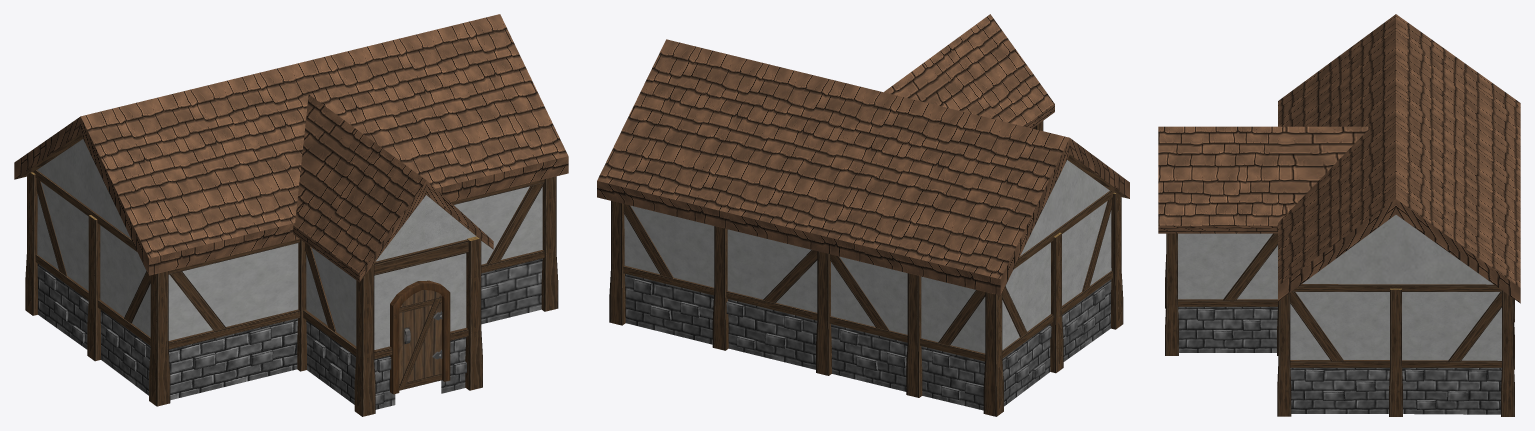
File: Building_b.fbx
3 renders of one model, left to right at view 1: azimuth 30°, elevation 25°; view 2: azimuth 150°, elevation 25°; view 3: azimuth 270°, elevation 25°, orthographic. The views are drawn at different scales.
Parts seen in each view (by area): view 1: Building_b; view 2: Building_b; view 3: Building_b.
Boxes of the visible parts, x1,y1,x2,y2 form: Building_b: [14, 14, 568, 416]; Building_b: [597, 14, 1129, 416]; Building_b: [1158, 14, 1520, 416].
Bounding box in the file's own units: 496 × 408 × 275.
